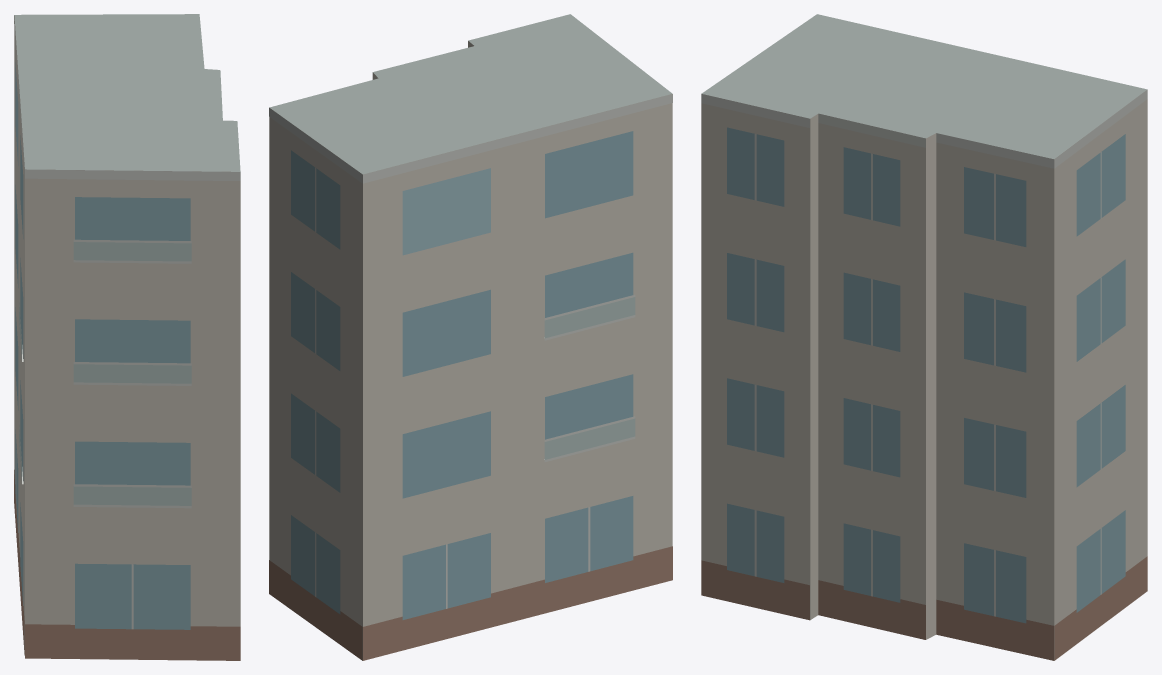
The model's file is survey-upis-32461070.glb.
The picture shows the model from 3 angles, left to right: view 1: azimuth 30°, elevation 25°; view 2: azimuth 150°, elevation 25°; view 3: azimuth 270°, elevation 25°; orthographic projection. The views are drawn at different scales.
Parts seen in each view (by area): view 1: survey-upis-32461070.tmp; view 2: survey-upis-32461070.tmp; view 3: survey-upis-32461070.tmp.
Boxes of the visible parts, left/top/right/bottom form: survey-upis-32461070.tmp: left=14, top=14, right=240, bottom=660; survey-upis-32461070.tmp: left=269, top=14, right=672, bottom=660; survey-upis-32461070.tmp: left=701, top=14, right=1147, bottom=660.
Bounding box in the file's own units: 8.02 × 12.9 × 10.41.
